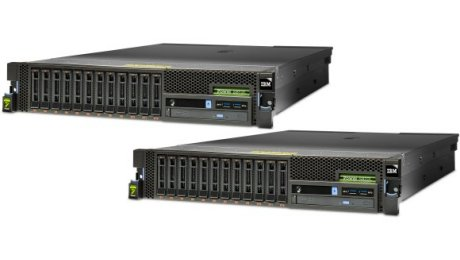ibm-server: (122, 128, 460, 226), (2, 37, 338, 131)
